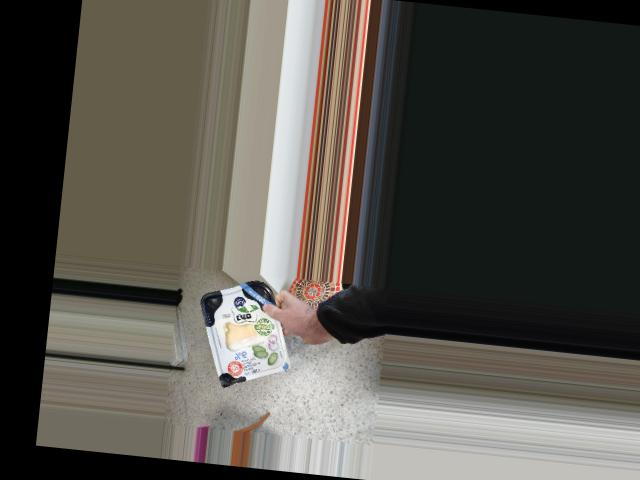cheese: (205, 287, 286, 382)
